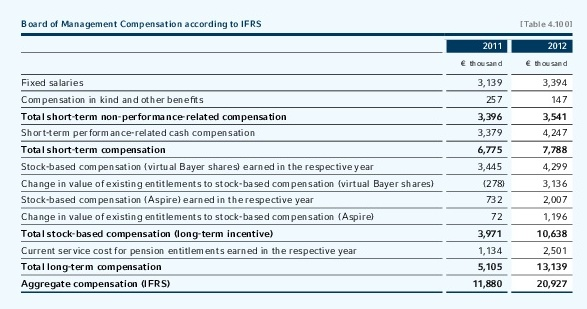table: (0, 0, 587, 309)
